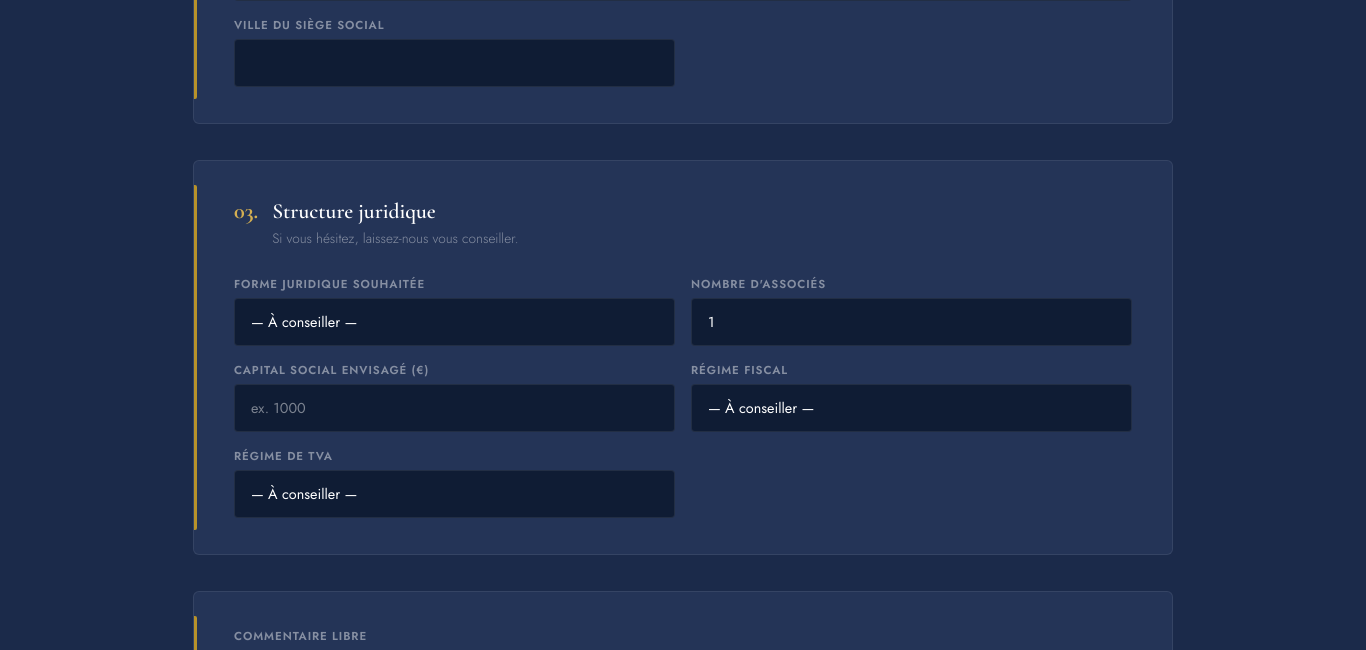
Scenario: CreationEntrepriseForm › préselectionne SARL avec le régime fiscal IS — Impôt sur les sociétés
This screenshot has width=1366, height=650.
(page scrolled)
Select "SARL" in the dropdown named "formeJuridique" below "Forme juridique souhaitée" at (454, 322), box [234,298,675,346]
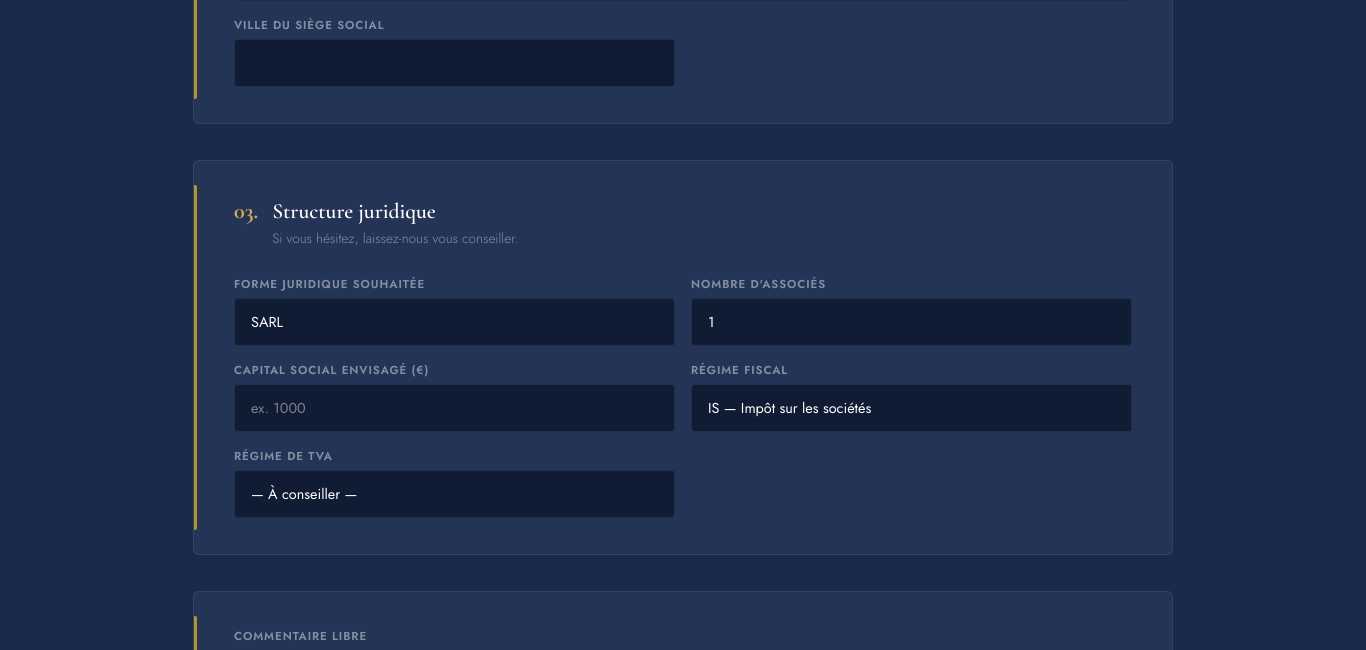
Result: the dropdown named "regimeFiscal" below "Régime fiscal" shows "IS — Impôt sur les sociétés" at [691,384,1132,432]
